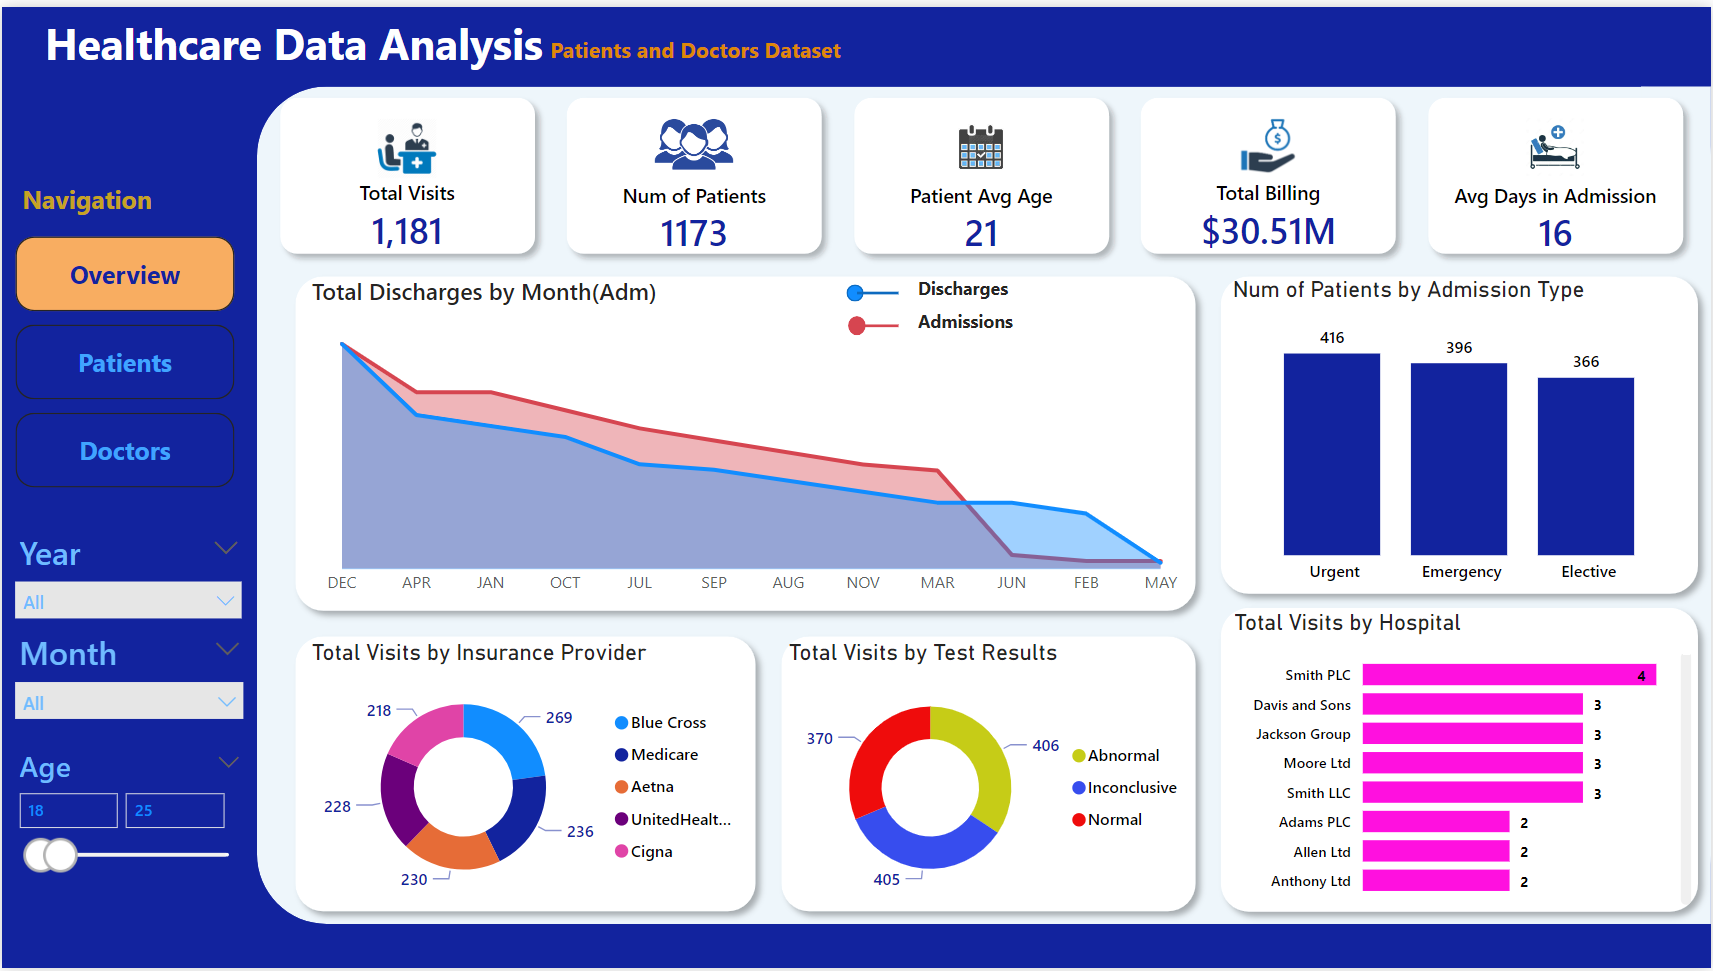

This screenshot's page, from the dashboard's own definition file:
{"tool":"powerbi","page":{"name":"Overview","canvas":[1280,720],"ordinal":0},"visuals":[{"type":"shape","box":[190.9,59.8,1089.1,627.3],"z":0},{"type":"shape","box":[1227.9,59.8,52,627.4],"z":1000},{"type":"cardVisual","fields":{"Data":["healthcare_dataset.Total Visits","healthcare_dataset.Num of Patients","healthcare_dataset.Patient avg age","healthcare_dataset.Total billing","healthcare_dataset.Avg days in Admission"]},"box":[190.5,50,1089.2,151.4],"z":2000},{"type":"shape","box":[209.9,192.1,693.4,269.7],"z":3000},{"type":"shape","box":[209.9,461.9,363.9,225.2],"z":4000},{"type":"areaChart","fields":{"Category":["healthcare_dataset.Month"],"Y":["healthcare_dataset.Total Discharges"]},"box":[226.5,201,668,248.1],"z":5000},{"type":"shape","box":[903.4,192.1,376.6,257],"z":6000},{"type":"shape","box":[903.4,440.2,376.6,246.8],"z":7000},{"type":"shape","box":[573.8,461.9,329.5,225.2],"z":8000},{"type":"clusteredColumnChart","fields":{"Category":["healthcare_dataset.Admission Type"],"Y":["healthcare_dataset.Num of Patients"]},"box":[917.4,201,352.4,239.2],"z":9000},{"type":"donutChart","fields":{"Category":["healthcare_dataset.Insurance Provider"],"Y":["healthcare_dataset.Total Visits"]},"box":[226.5,473.3,334.6,202.3],"z":10000},{"type":"donutChart","fields":{"Category":["healthcare_dataset.Test Results"],"Y":["healthcare_dataset.Total Visits"]},"box":[584,473.3,310.5,203.6],"z":11000},{"type":"textbox","box":[26.7,0,519.1,59.8],"z":12000},{"type":"textbox","box":[10.2,126,137.4,38.2],"z":13000},{"type":"pageNavigator","box":[10.2,171.8,164.1,188.3],"z":14000},{"type":"textbox","box":[405.6,16.2,278.8,34.4],"z":15000},{"type":"clusteredBarChart","fields":{"Category":["healthcare_dataset.Hospital"],"Y":["healthcare_dataset.Total Visits"]},"box":[917.8,450,352.2,226.7],"z":16000},{"type":"areaChart","fields":{"Category":["healthcare_dataset.Month(Dis)"],"Y":["healthcare_dataset.Total Discharges"]},"box":[226.4,200.7,667.9,225],"z":17000},{"type":"slicer","fields":{"Values":["healthcare_dataset.Year"]},"box":[0,386.8,189.6,106.9],"z":18000},{"type":"slicer","fields":{"Values":["healthcare_dataset.Age"]},"box":[0,548.4,190.9,171.8],"z":19000},{"type":"slicer","fields":{"Values":["healthcare_dataset.Admission(month)"]},"box":[0,461.9,190.9,86.5],"z":20000},{"type":"shape","box":[633.1,208.1,12.8,12.8],"z":21000},{"type":"shape","box":[640,183.3,31.1,62.2],"z":22000},{"type":"shape","box":[633.3,231.1,13.3,14.4],"z":23000},{"type":"shape","box":[640,192.2,31.1,93.3],"z":24000},{"type":"textbox","box":[681.1,195.6,110,37.8],"z":25000},{"type":"textbox","box":[681.1,220,110,45.6],"z":26000}]}

Visuals, with their boxes in screenshot pixels (x1, y1, x2, y2), scaled from the page's 1280x720 canvas onto the 1713x971 screenshot:
shape: (255, 81, 1712, 927)
shape: (1643, 81, 1712, 927)
cardVisual - healthcare_dataset.Total Visits x healthcare_dataset.Num of Patients: (255, 67, 1712, 272)
shape: (281, 259, 1209, 623)
shape: (281, 623, 768, 927)
areaChart - healthcare_dataset.Month x healthcare_dataset.Total Discharges: (303, 271, 1197, 606)
shape: (1209, 259, 1712, 606)
shape: (1209, 594, 1712, 926)
shape: (768, 623, 1209, 927)
clusteredColumnChart - healthcare_dataset.Admission Type x healthcare_dataset.Num of Patients: (1228, 271, 1699, 594)
donutChart - healthcare_dataset.Insurance Provider x healthcare_dataset.Total Visits: (303, 638, 751, 911)
donutChart - healthcare_dataset.Test Results x healthcare_dataset.Total Visits: (782, 638, 1197, 913)
textbox: (36, 0, 730, 81)
textbox: (14, 170, 198, 221)
pageNavigator: (14, 232, 233, 486)
textbox: (543, 22, 916, 68)
clusteredBarChart - healthcare_dataset.Hospital x healthcare_dataset.Total Visits: (1228, 607, 1700, 913)
areaChart - healthcare_dataset.Month(Dis) x healthcare_dataset.Total Discharges: (303, 271, 1197, 574)
slicer - healthcare_dataset.Year: (0, 522, 254, 666)
slicer - healthcare_dataset.Age: (0, 740, 255, 970)
slicer - healthcare_dataset.Admission(month): (0, 623, 255, 740)
shape: (847, 281, 864, 298)
shape: (856, 247, 898, 331)
shape: (848, 312, 865, 331)
shape: (856, 259, 898, 385)
textbox: (912, 264, 1059, 315)
textbox: (912, 297, 1059, 358)
